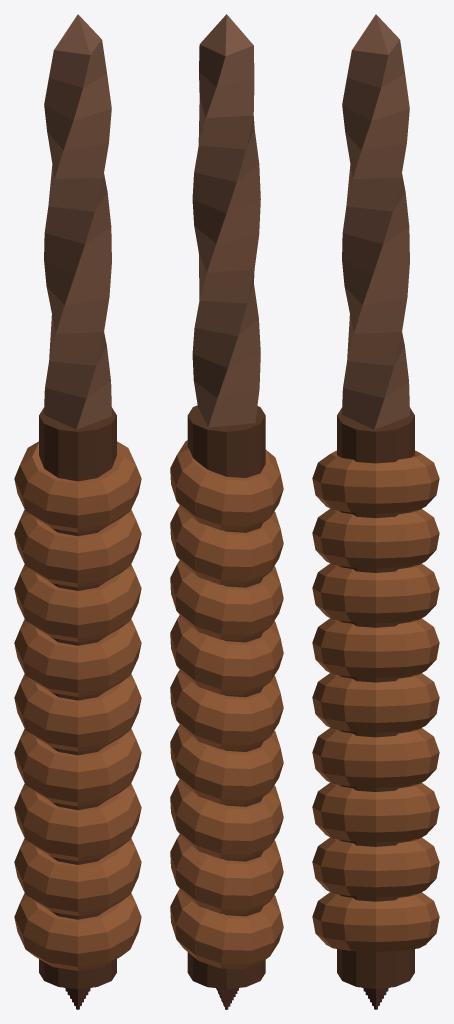
File: Wand 454.glb
3 renders of one model, left to right at view 1: azimuth 90°, elevation 25°; view 2: azimuth 150°, elevation 25°; view 3: azimuth 270°, elevation 25°, orthographic.
Parts seen in each view (by area): view 1: GeneratedWand; view 2: GeneratedWand; view 3: GeneratedWand.
Part boxes in pixels (x1,y1,x2,y2): GeneratedWand: (14,14,141,1009); GeneratedWand: (170,14,283,1009); GeneratedWand: (312,14,439,1009).
Size of the model in its own units: 0.0497 by 0.5012 by 0.0581.
